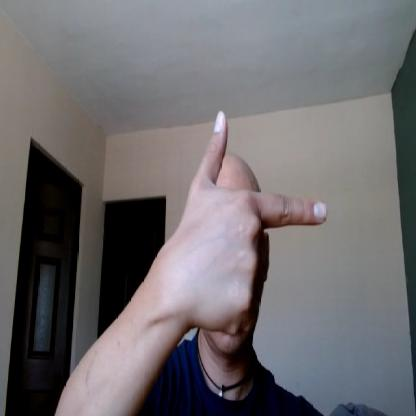G: (180, 108, 330, 330)
